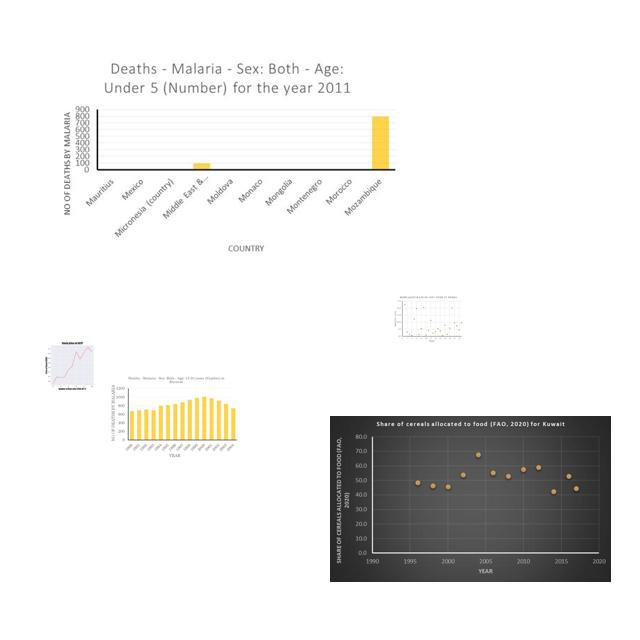Graph: (53, 54, 403, 261), (330, 416, 611, 582), (108, 375, 239, 459), (37, 339, 106, 391), (393, 295, 464, 344)
